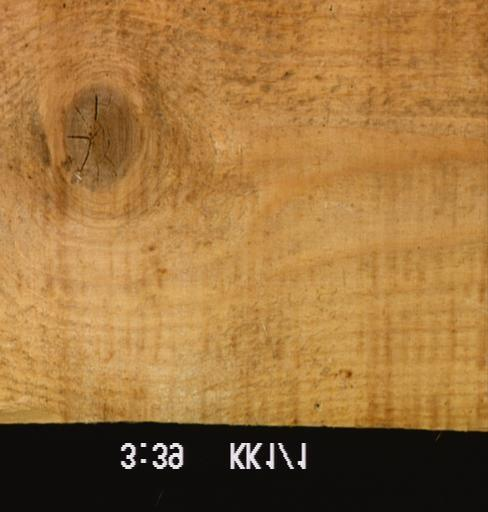sound_knot: (54, 82, 149, 195)
